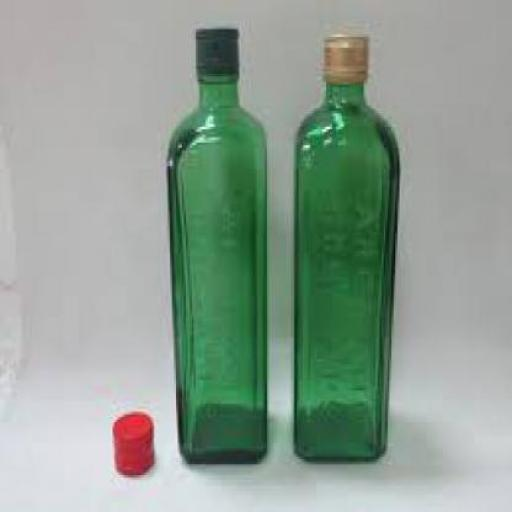glass: (290, 79, 398, 459), (166, 71, 267, 459)
metal: (110, 409, 152, 472), (320, 34, 366, 79), (193, 26, 238, 66)
